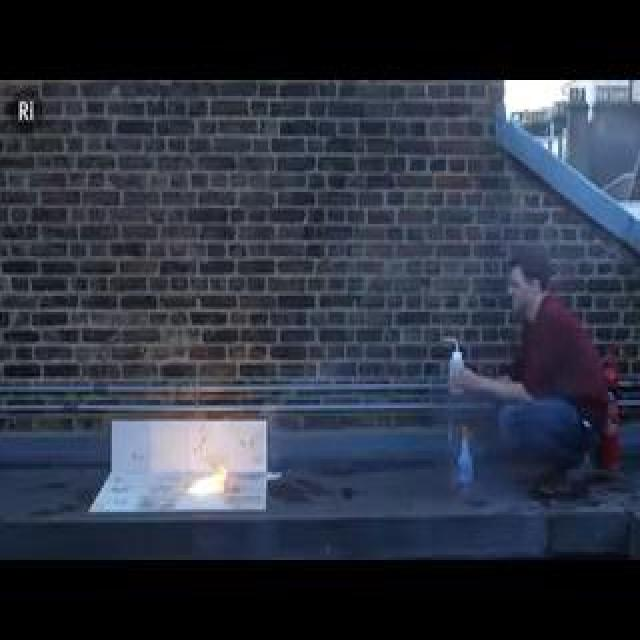Fire: (44, 58, 207, 472)
